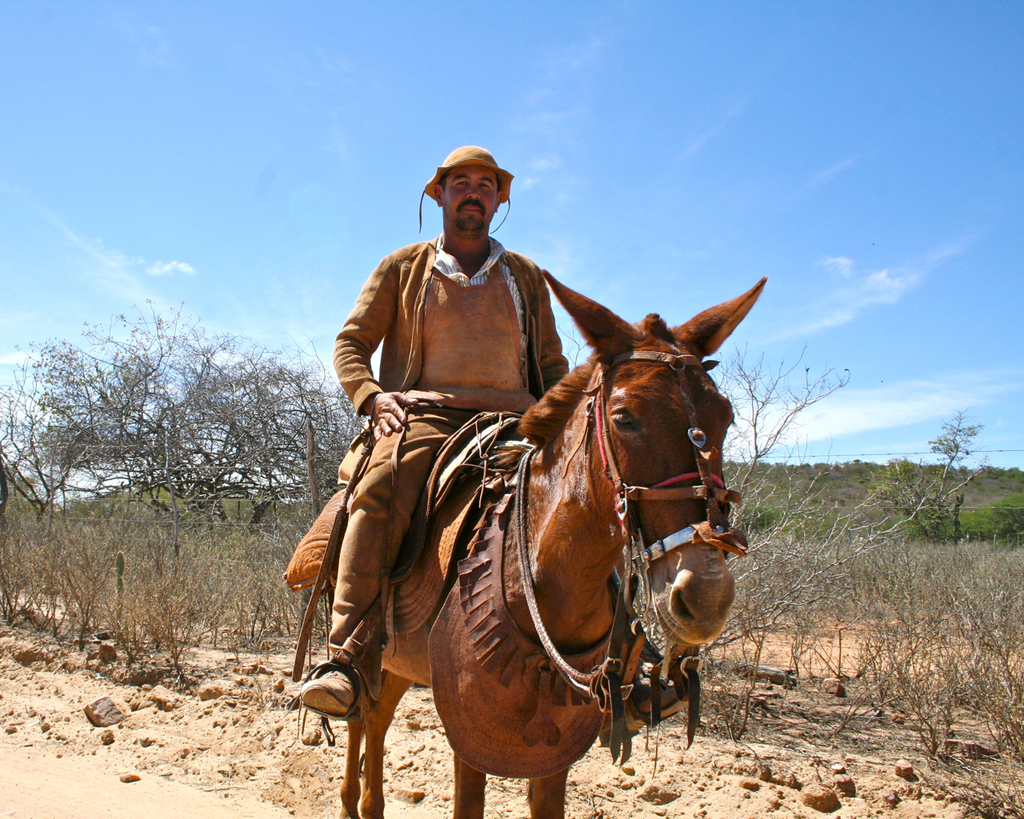Person: (294, 143, 693, 747)
